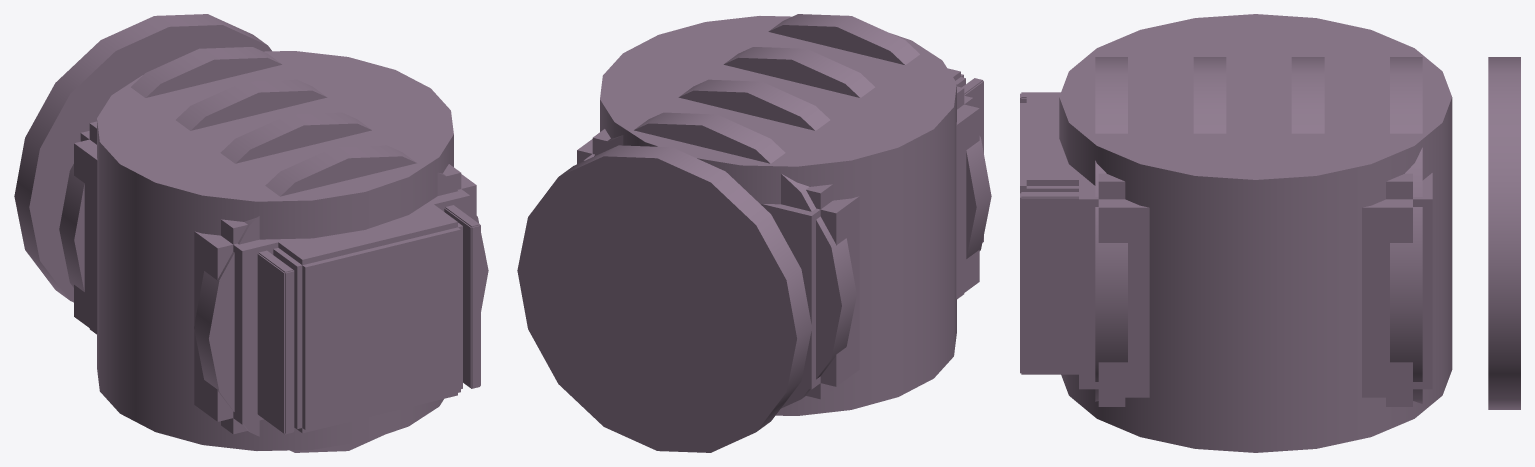
Rendered from plasma_lobber_housing.glb.
3 renders of one model, left to right at view 1: azimuth 30°, elevation 25°; view 2: azimuth 150°, elevation 25°; view 3: azimuth 270°, elevation 25°, orthographic. The views are drawn at different scales.
Parts seen in each view (by area): view 1: plasma_lobber_housing; view 2: plasma_lobber_housing; view 3: plasma_lobber_housing.
Part boxes in pixels (bbox=[...]): plasma_lobber_housing: bbox=[14, 14, 488, 452]; plasma_lobber_housing: bbox=[517, 14, 991, 452]; plasma_lobber_housing: bbox=[1020, 14, 1520, 452].
Size of the model in its own units: 0.6 by 0.54 by 0.765.
